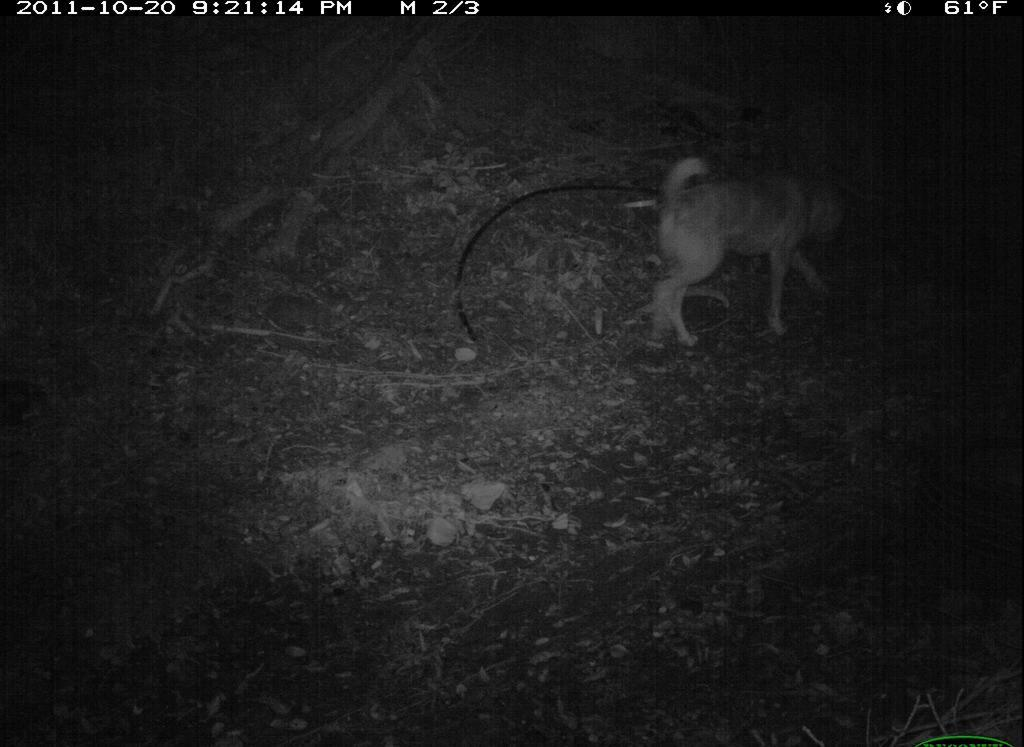dog: (617, 144, 880, 359)
